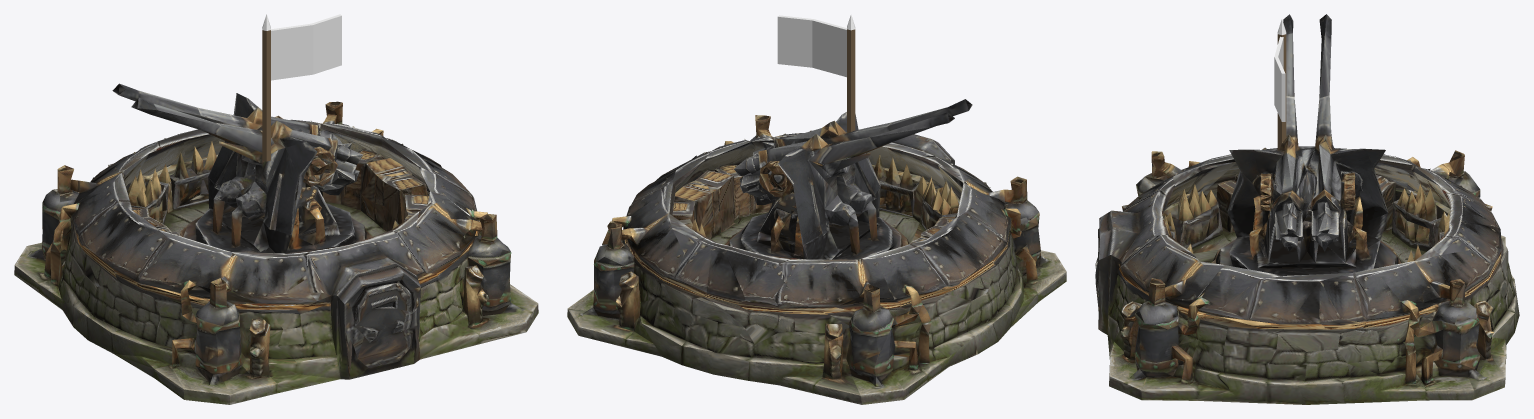
3 views of the same model, side by side, from view 1: azimuth 30°, elevation 25°; view 2: azimuth 150°, elevation 25°; view 3: azimuth 270°, elevation 25° (orthographic). The views are drawn at different scales.
Visible parts, largest first — view 1: anti_air_battery, Team_banner; view 2: anti_air_battery, Team_banner; view 3: anti_air_battery, Team_banner.
Part boxes in pixels (<box>): anti_air_battery: <box>14,83,538,404</box>; Team_banner: <box>262,14,341,161</box>; anti_air_battery: <box>567,99,1066,404</box>; Team_banner: <box>777,14,855,132</box>; anti_air_battery: <box>1095,14,1519,404</box>; Team_banner: <box>1274,19,1286,150</box>.
Size of the model in its own units: 1.89 by 1.42 by 1.89.
3 materials, 1 textured.
